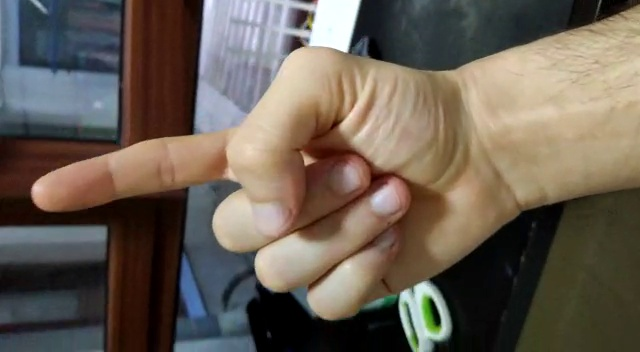One: (25, 120, 252, 218)
